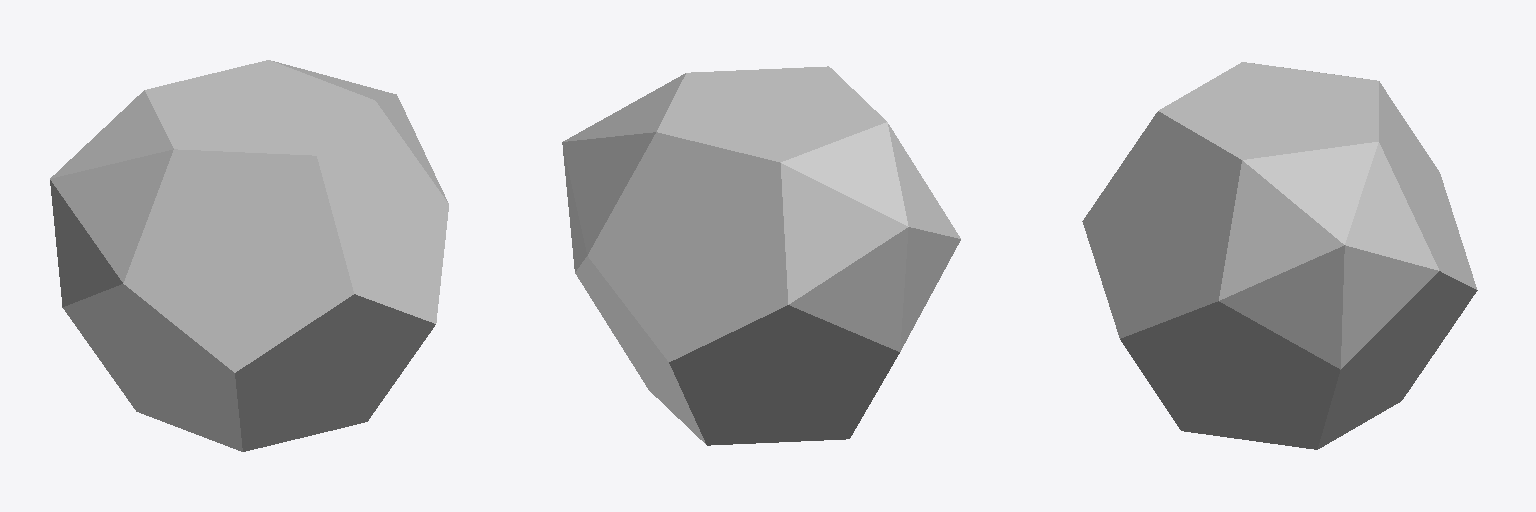
The model's file is MetaBiAugmentedDodecahedron.obj.
3 views of the same model, side by side, from view 1: azimuth 30°, elevation 25°; view 2: azimuth 150°, elevation 25°; view 3: azimuth 270°, elevation 25° (orthographic).
Visible parts, largest first — view 1: MetaBiAugmentedDodecahedron; view 2: MetaBiAugmentedDodecahedron; view 3: MetaBiAugmentedDodecahedron.
Part boxes in pixels (left/top/right/bottom): MetaBiAugmentedDodecahedron: left=50, top=60, right=448, bottom=451; MetaBiAugmentedDodecahedron: left=562, top=66, right=960, bottom=445; MetaBiAugmentedDodecahedron: left=1082, top=62, right=1477, bottom=449.
Bounding box in the file's own units: 2.09 × 1.67 × 2.06.